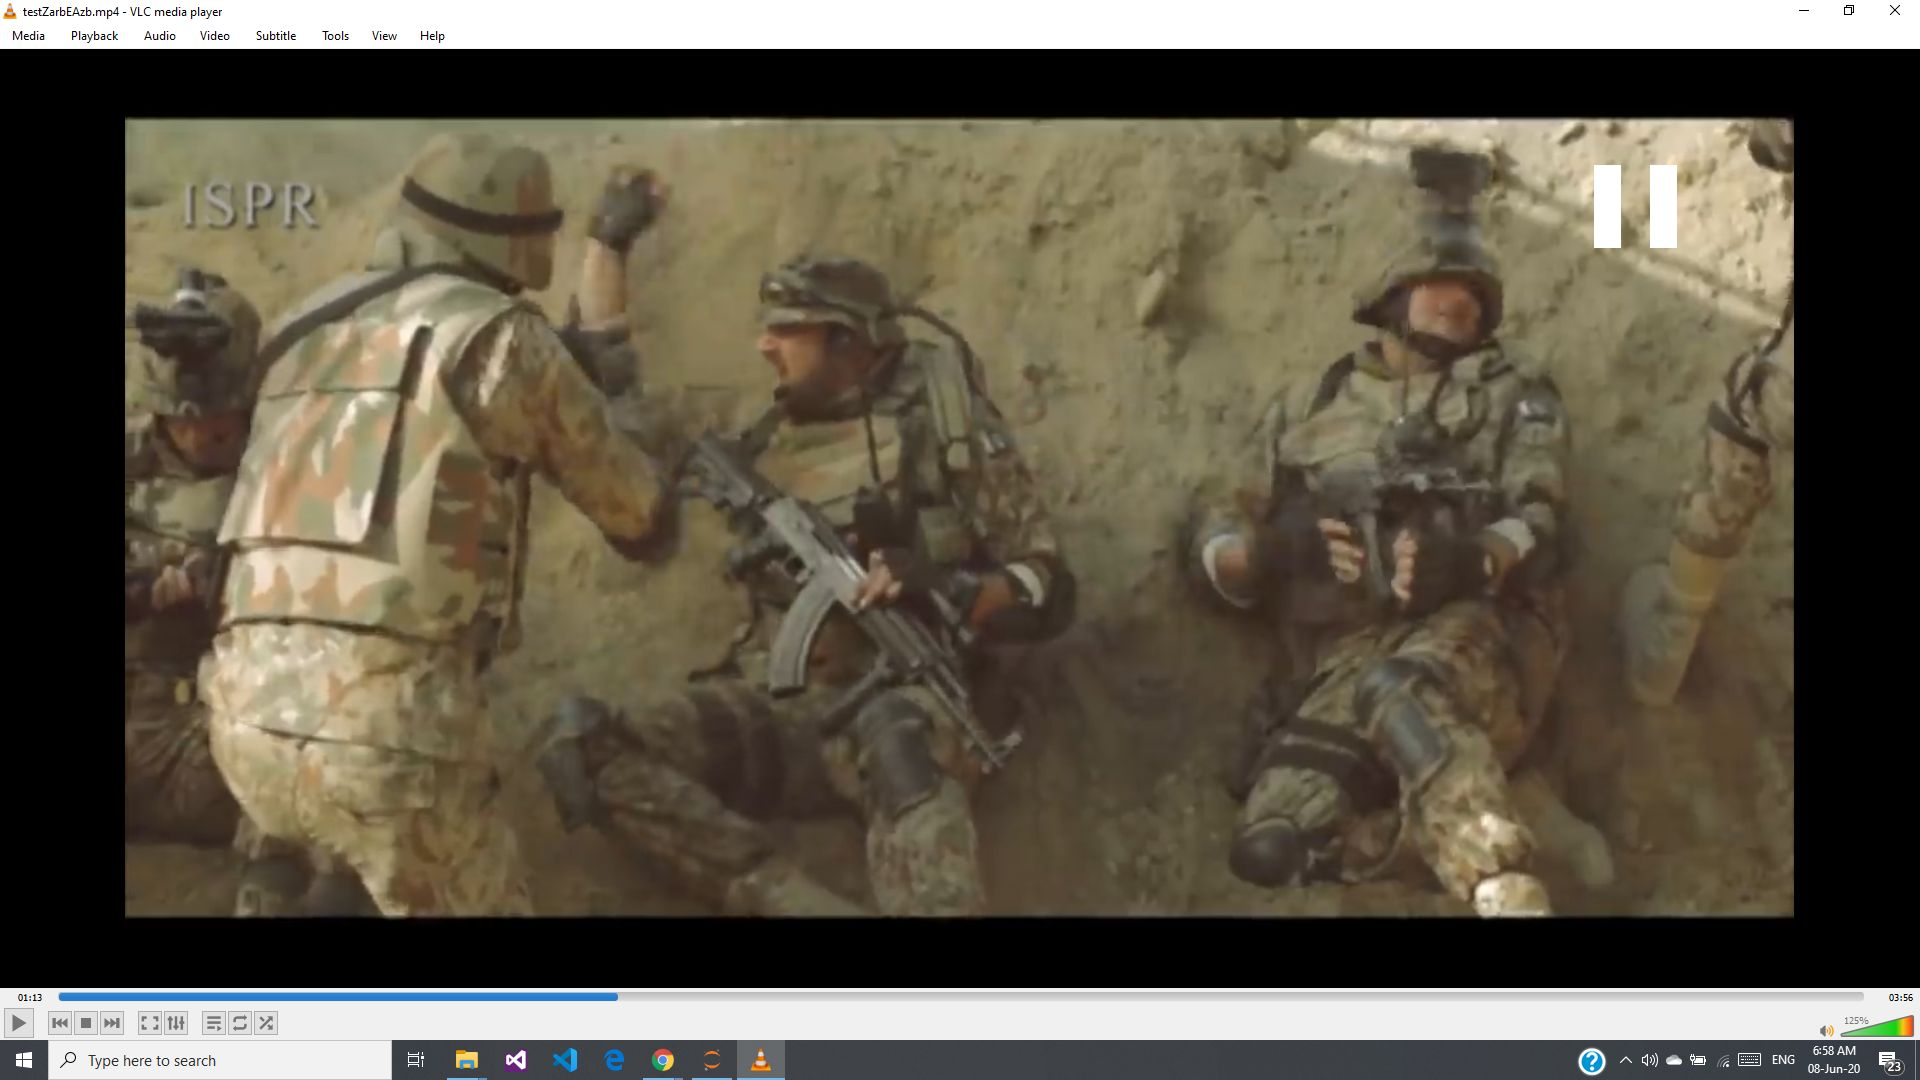gun: (673, 415, 1052, 786), (1244, 411, 1532, 596)
uniform: (1200, 167, 1588, 914), (233, 135, 568, 909), (641, 204, 996, 918), (127, 272, 276, 918)
